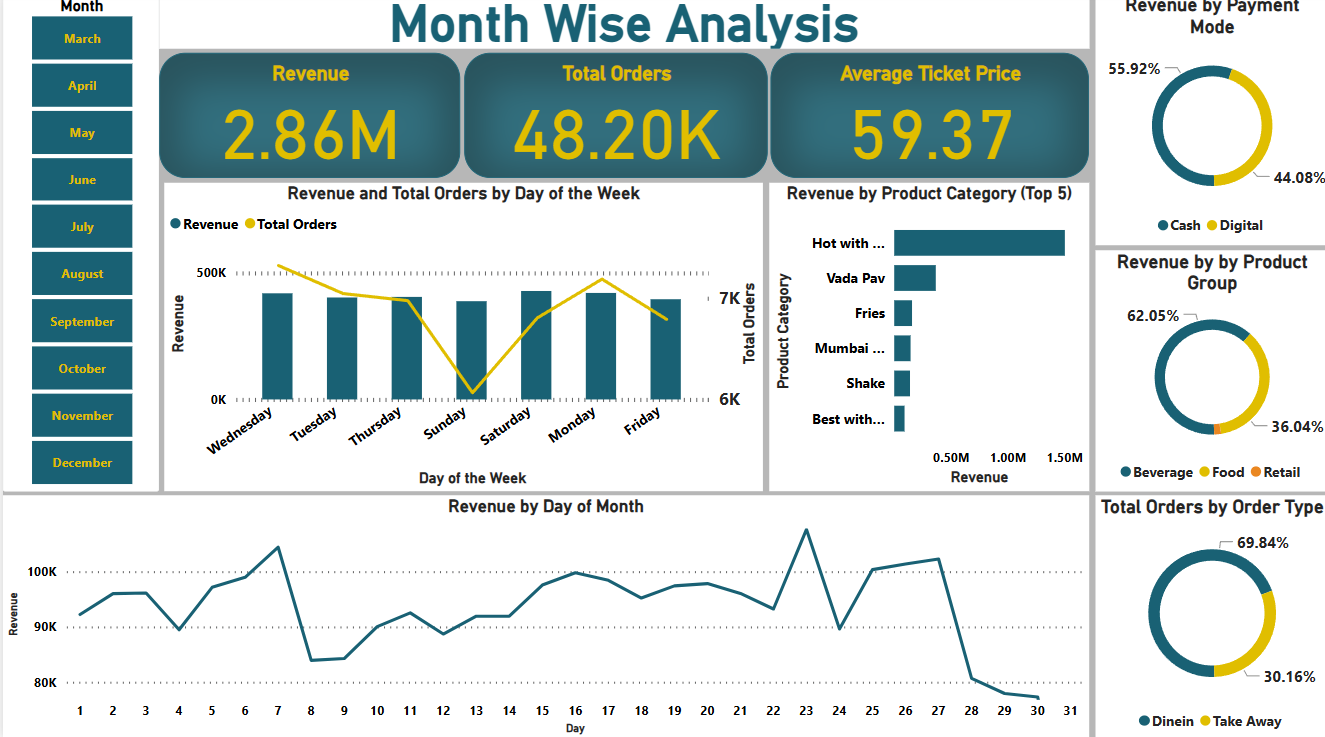

The dashboard page shown, as its layout file describes it:
{"tool":"powerbi","page":{"name":"Month Wise Analytics","canvas":[1280,720],"ordinal":1},"visuals":[{"type":"card","title":"Revenue","fields":{"Values":["Sales Data.Revenue"]},"box":[150.8,56.7,290.7,120.6],"z":0},{"type":"textbox","title":"Month Wise Analysis","box":[150.8,0,897.3,53.1],"z":1000},{"type":"card","title":"Total Orders","fields":{"Values":["Sales Data.Total Orders"]},"box":[445,56.7,293.1,120.6],"z":2000},{"type":"card","title":"Average Ticket Price","fields":{"Values":["Sales Data.Atp"]},"box":[740.5,57,307.5,120.6],"z":3000},{"type":"donutChart","fields":{"Category":["Sales Data.Payment Mode"],"Y":["Sales Data.Revenue"]},"box":[1054.1,0,225.5,242.4],"z":4000},{"type":"donutChart","fields":{"Y":["Sum(Sheet 1.Total Amount)"],"Category":["Sheet 1.Product Group"]},"box":[1054.1,247.2,225.5,232.8],"z":5000},{"type":"donutChart","fields":{"Y":["Sales Data.Total Orders"],"Category":["Sales Data.Order Type"]},"box":[1054.1,483.6,225.5,236.4],"z":6000},{"type":"lineChart","title":"Revenue by Day of Month","fields":{"Category":["Sales Data.Order Date.Variation.Date Hierarchy.Day"],"Y":["Sales Data.Revenue"]},"box":[0,483.6,1048,236.4],"z":7000},{"type":"slicer","title":"Month","fields":{"Values":["Sales Data.Order Date.Variation.Date Hierarchy.Month"]},"box":[0,0,150.8,480],"z":8000},{"type":"barChart","title":"Revenue by Product Category (Top 5)","fields":{"Category":["Sheet 1.Product Category"],"Y":["Sum(Sheet 1.Total Amount)"]},"box":[739,182.3,308.5,297.5],"z":9000},{"type":"lineStackedColumnComboChart","fields":{"Category":["Sales Data.Day of the Week"],"Y":["Sales Data.Revenue"],"Y2":["Sales Data.Total Orders"]},"box":[155.6,182.1,577.7,297.9],"z":10000}]}

Visuals, with their boxes in screenshot pixels (x1, y1, x2, y2), scaled from the page's 1280x720 canvas onto the 1325x737 screenshot:
"Revenue" card: l=156, t=58, r=457, b=181
"Month Wise Analysis" textbox: l=156, t=0, r=1085, b=54
"Total Orders" card: l=461, t=58, r=764, b=181
"Average Ticket Price" card: l=767, t=58, r=1085, b=182
donutChart - Sales Data.Payment Mode x Sales Data.Revenue: l=1091, t=0, r=1324, b=248
donutChart - Sum(Sheet 1.Total Amount) x Sheet 1.Product Group: l=1091, t=253, r=1324, b=491
donutChart - Sales Data.Total Orders x Sales Data.Order Type: l=1091, t=495, r=1324, b=736
"Revenue by Day of Month" lineChart: l=0, t=495, r=1085, b=736
"Month" slicer: l=0, t=0, r=156, b=491
"Revenue by Product Category (Top 5)" barChart: l=765, t=187, r=1084, b=491
lineStackedColumnComboChart - Sales Data.Day of the Week x Sales Data.Revenue: l=161, t=186, r=759, b=491
